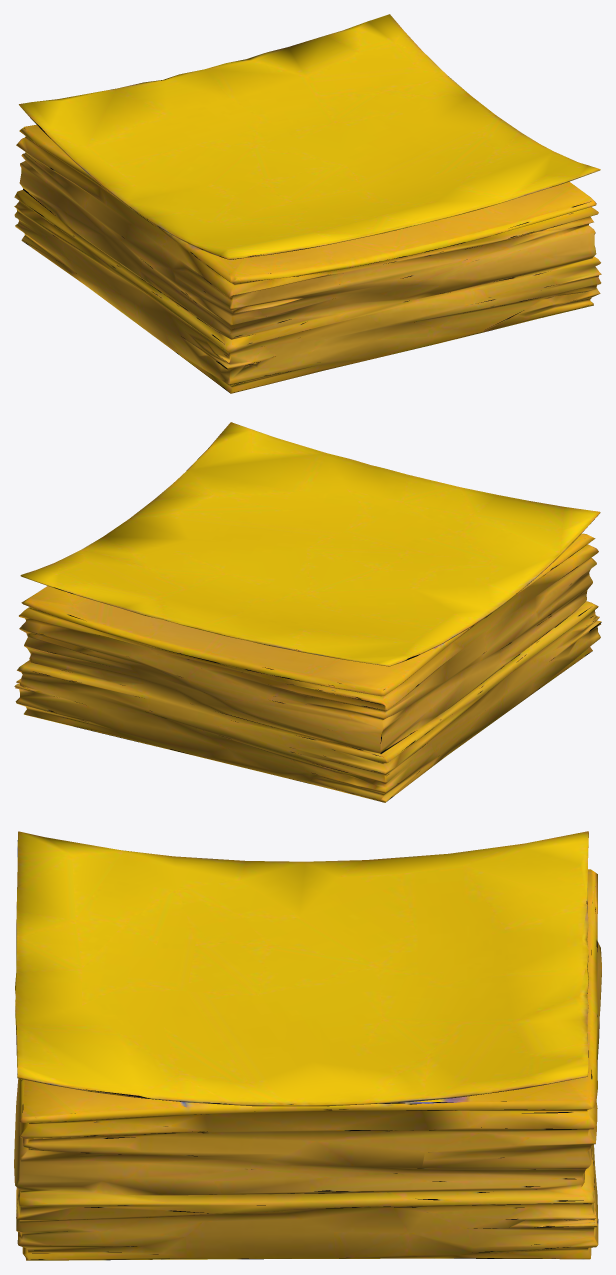
File: sticky_notes.glb
3 views of the same model, one above another, from view 1: azimuth 30°, elevation 25°; view 2: azimuth 150°, elevation 25°; view 3: azimuth 270°, elevation 25° (orthographic). The views are drawn at different scales.
Parts seen in each view (by area): view 1: low; view 2: low; view 3: low.
Boxes of the visible parts, <box> form: low: <box>14,14,601,393</box>; low: <box>14,422,601,802</box>; low: <box>14,831,601,1260</box>.
Bounding box in the file's own units: 0.9775 × 0.3466 × 0.9802.
1 material, 1 textured.
